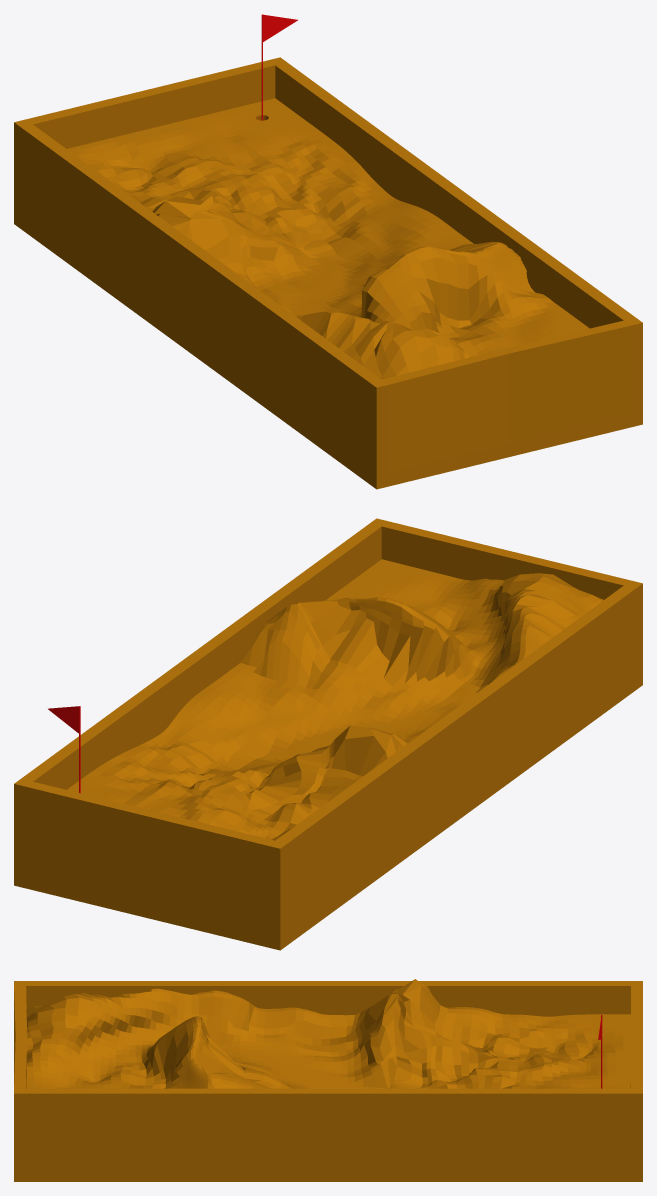
File: level_17.glb
3 renders of one model, top to bottom at view 1: azimuth 30°, elevation 25°; view 2: azimuth 150°, elevation 25°; view 3: azimuth 270°, elevation 25°, orthographic. The views are drawn at different scales.
Visible parts, largest first — view 1: green, flag; view 2: green, flag; view 3: green.
Boxes of the visible parts, <box> form: green: <box>14,57,642,489</box>; flag: <box>261,14,297,120</box>; green: <box>14,518,642,950</box>; flag: <box>48,706,80,793</box>; green: <box>14,979,642,1181</box>.
Size of the model in its own units: 2.2 by 1.36 by 5.19.
